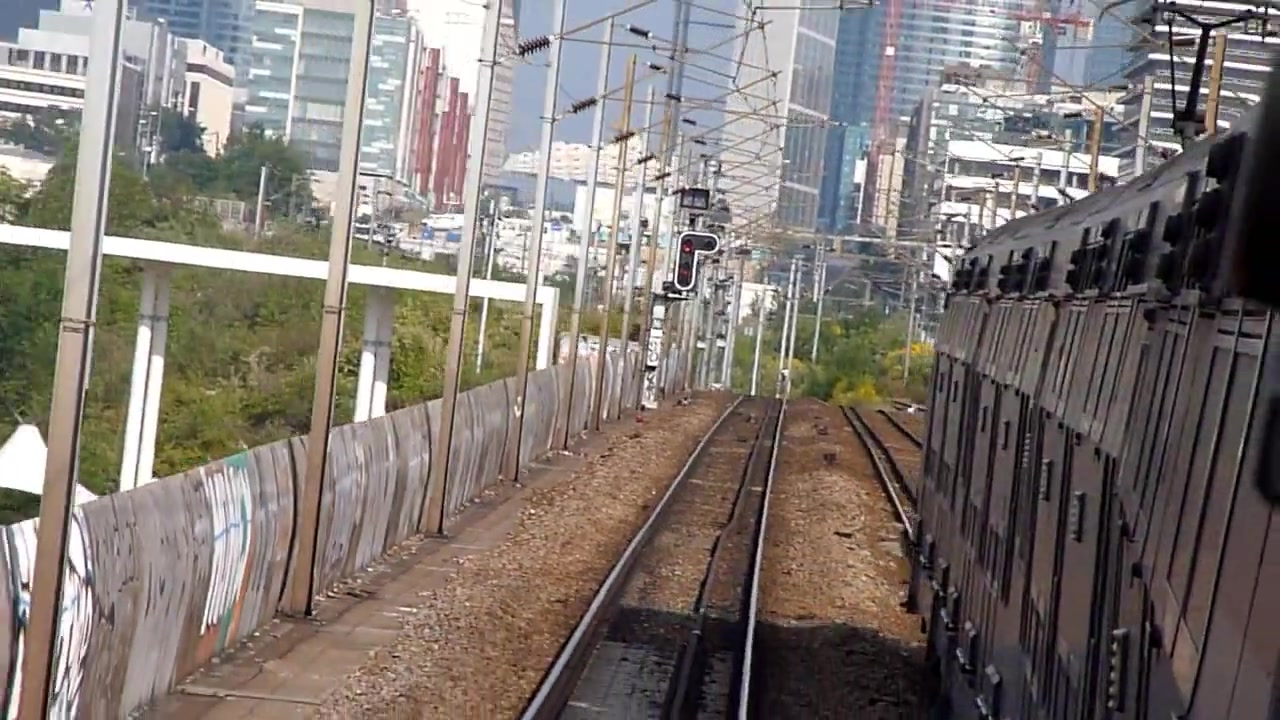train: (906, 47, 1280, 720)
